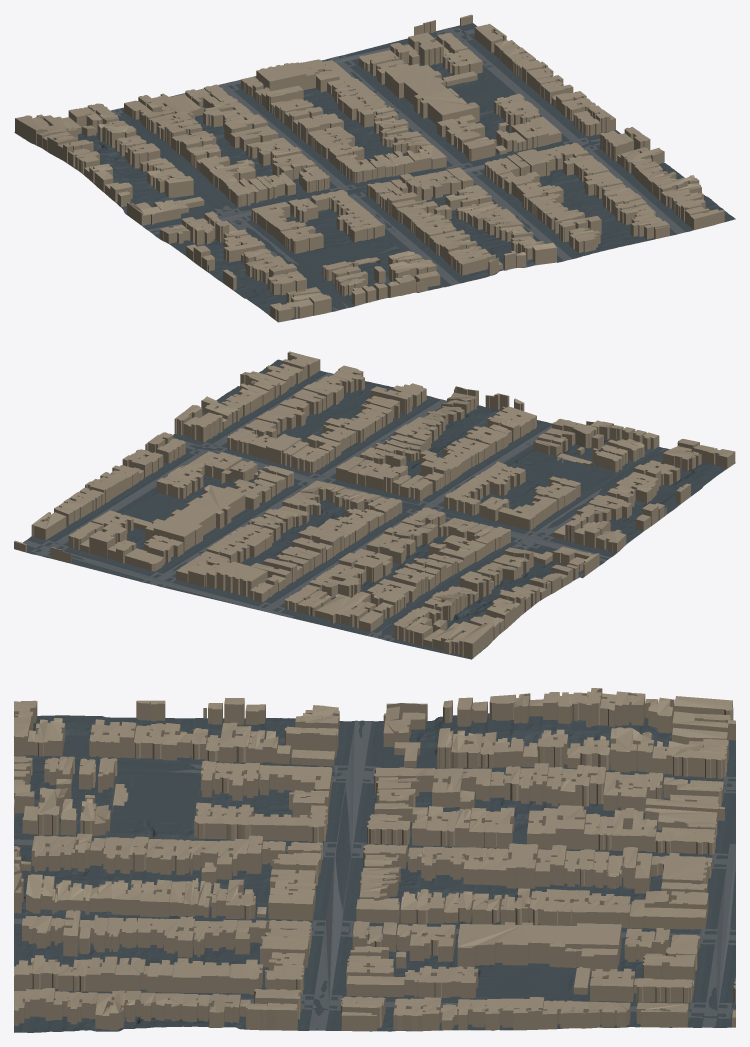
The model's file is epsg26910-1420-10890.lod0.glb.
The picture shows the model from 3 angles, top to bottom: view 1: azimuth 30°, elevation 25°; view 2: azimuth 150°, elevation 25°; view 3: azimuth 270°, elevation 25°; orthographic projection. The views are drawn at different scales.
Visible parts, largest first — view 1: epsg26910-1420-10890-lod0; view 2: epsg26910-1420-10890-lod0; view 3: epsg26910-1420-10890-lod0.
Boxes of the visible parts, x1,y1,x2,y2 form: epsg26910-1420-10890-lod0: (14, 14, 735, 322); epsg26910-1420-10890-lod0: (14, 351, 735, 659); epsg26910-1420-10890-lod0: (14, 688, 735, 1032).
Bounding box in the file's own units: 384 × 24.28 × 384.
